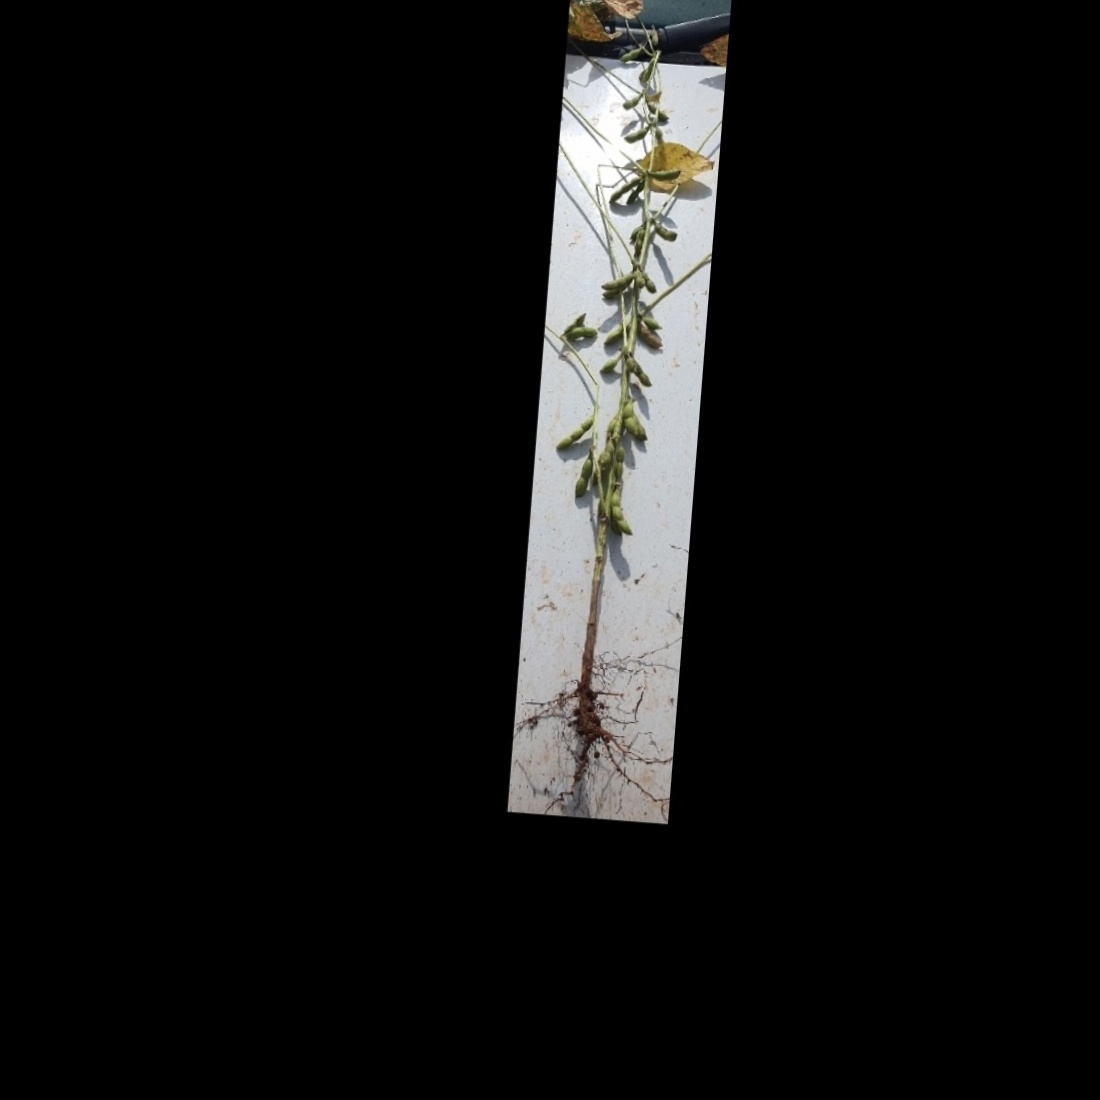pod: (554, 413, 594, 454), (606, 489, 637, 537), (571, 454, 594, 501), (607, 174, 637, 207), (600, 270, 633, 292), (566, 323, 600, 343), (621, 122, 650, 145), (602, 322, 625, 351), (647, 165, 682, 182), (651, 223, 680, 242), (599, 353, 621, 376), (618, 45, 643, 65), (631, 227, 645, 259), (613, 445, 626, 482), (620, 94, 641, 112), (647, 26, 663, 47), (641, 59, 654, 83)
soy: (525, 13, 717, 772)
